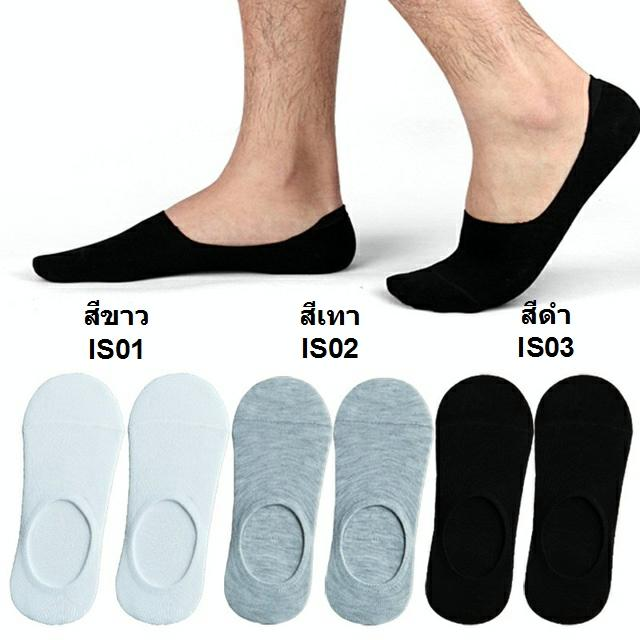sock: (385, 73, 639, 313), (8, 371, 124, 625), (114, 371, 230, 625), (523, 373, 633, 624), (424, 373, 533, 624), (324, 376, 433, 625), (223, 375, 332, 624), (32, 203, 356, 283)
